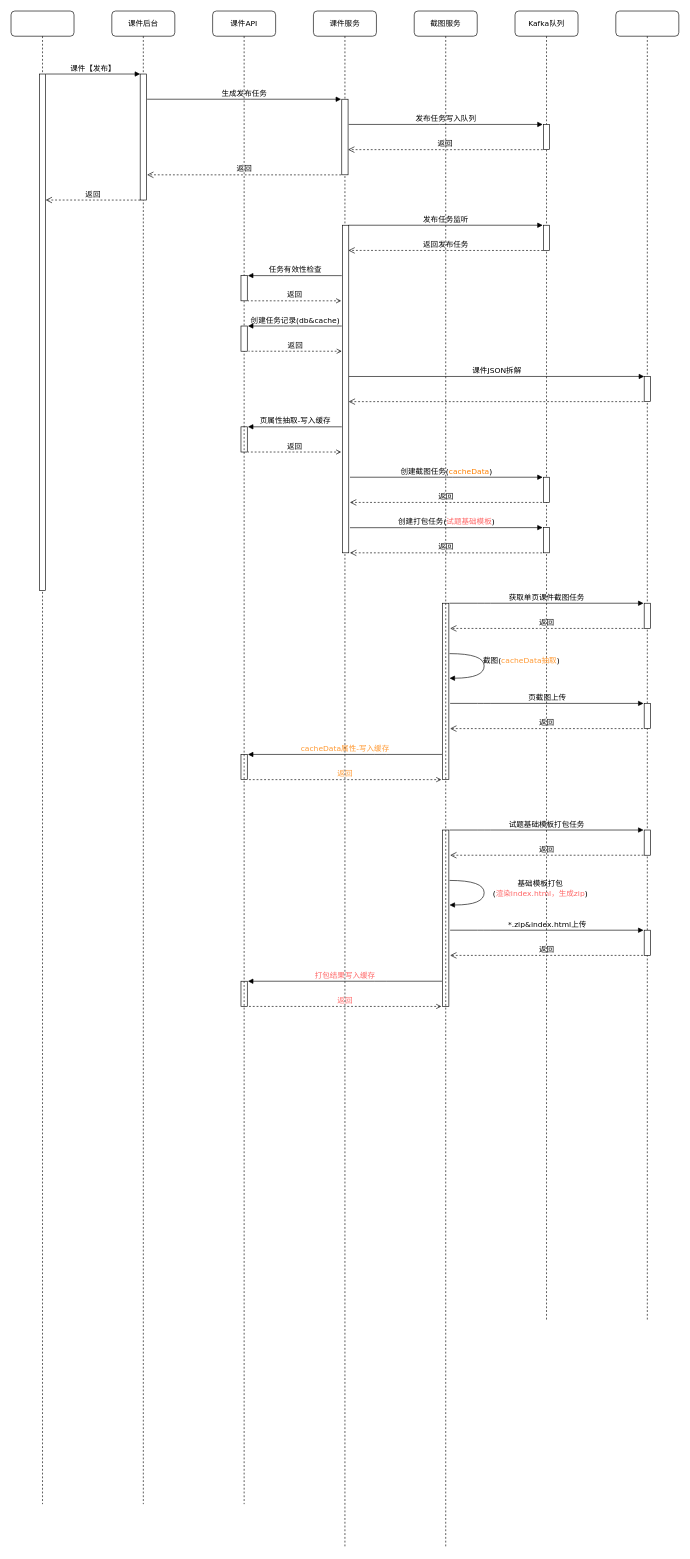
Image size: 690x1559. Some labels were removed from this diagram. The shapes that lost their labels are listed below. From the top down, each one's box as (x1, y1, x2, y2) in pixels, then its label:
(615, 10, 679, 1321): 阿里OSS
(10, 10, 74, 1504): 用户
